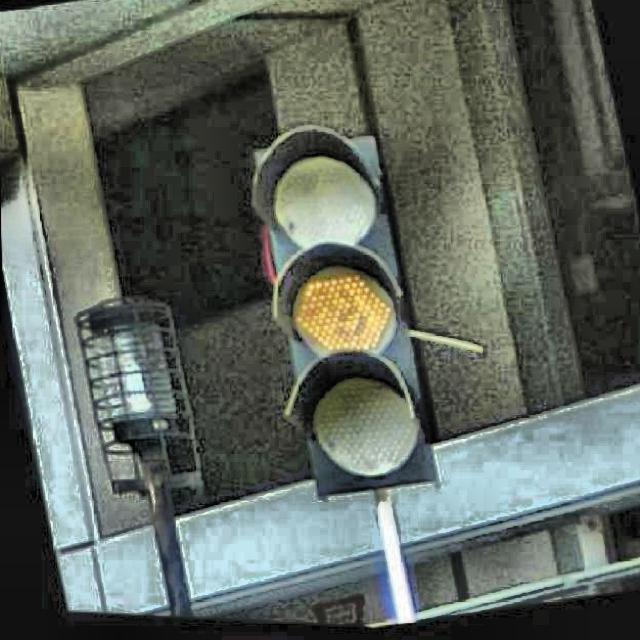yellow: (227, 117, 448, 513)
